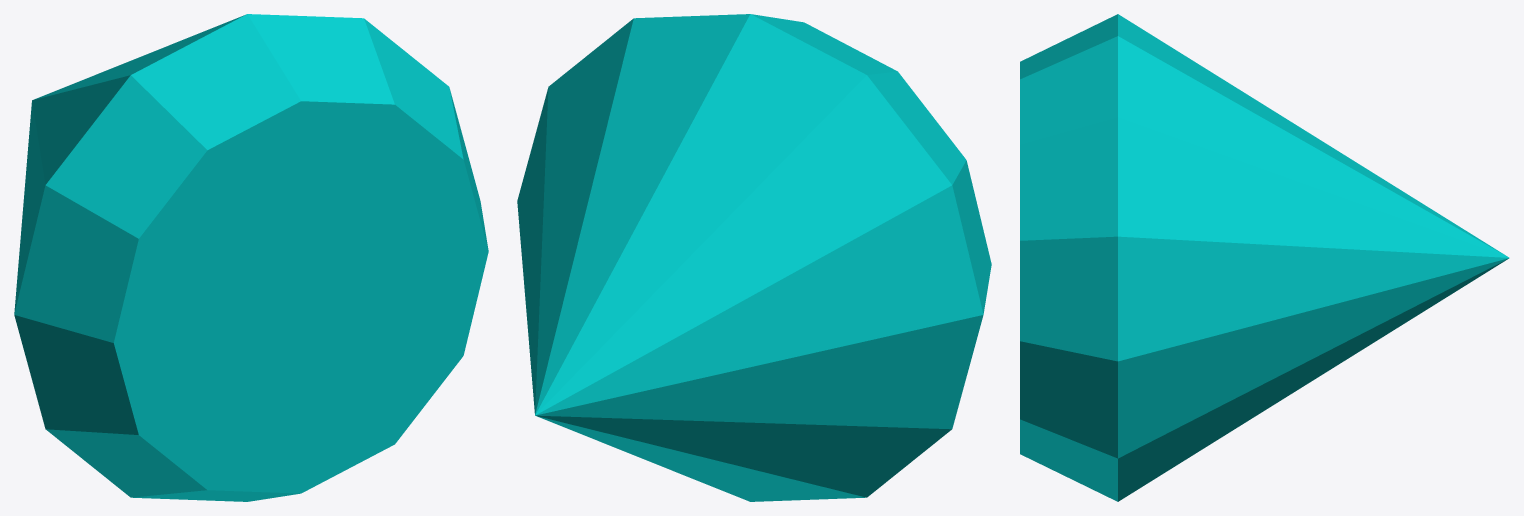
File: diamante.obj
The picture shows the model from 3 angles, left to right: view 1: azimuth 30°, elevation 25°; view 2: azimuth 150°, elevation 25°; view 3: azimuth 270°, elevation 25°; orthographic projection. The views are drawn at different scales.
Parts seen in each view (by area): view 1: Cylinder; view 2: Cylinder; view 3: Cylinder.
Boxes of the visible parts, <box> form: Cylinder: <box>14,14,488,501</box>; Cylinder: <box>517,14,991,501</box>; Cylinder: <box>1020,14,1509,501</box>.
Size of the model in its own units: 2 by 2 by 2.
